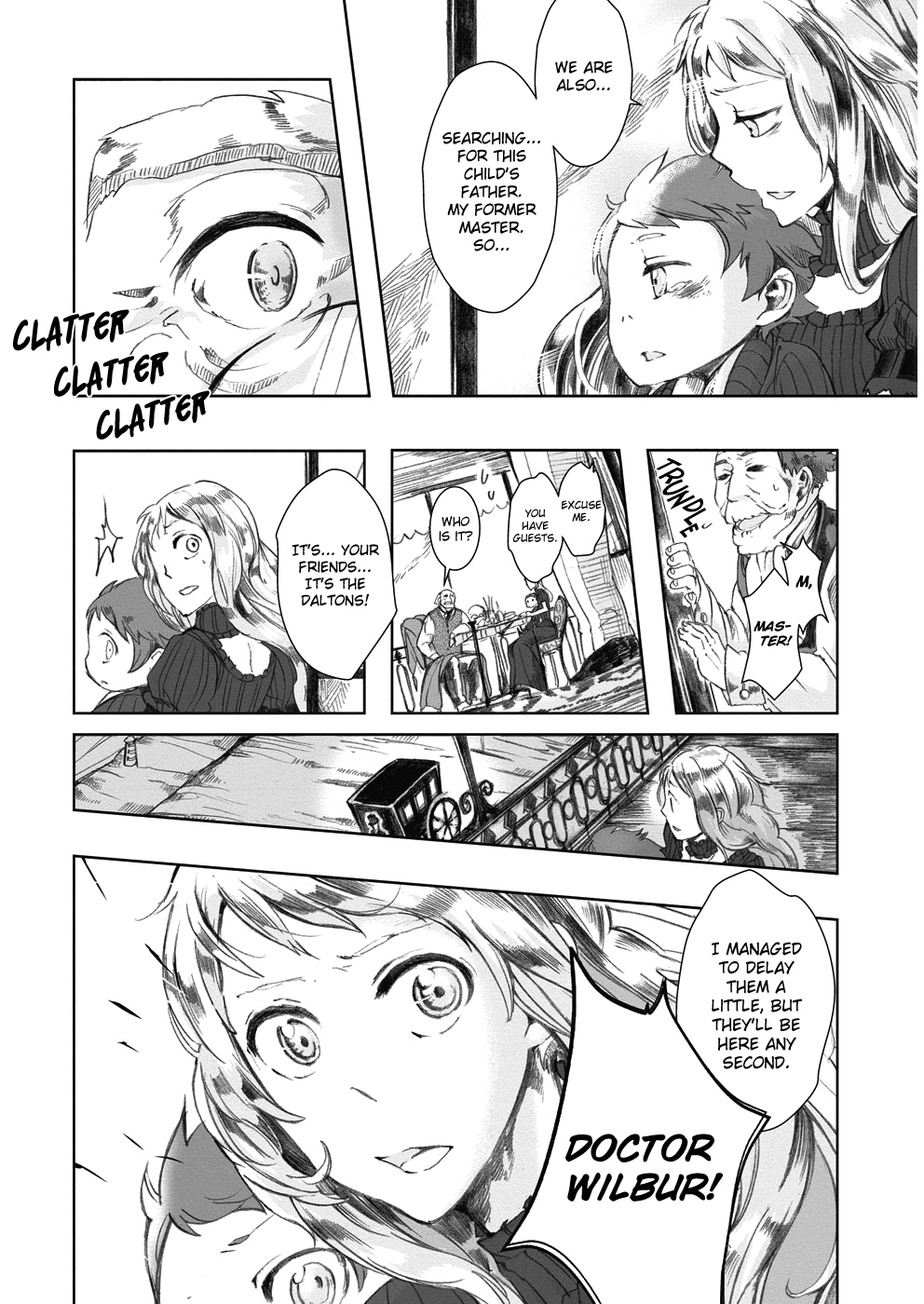bubble: (504, 949, 771, 1304), (676, 869, 835, 1131), (422, 61, 557, 313), (275, 468, 398, 680), (535, 0, 642, 168), (741, 568, 803, 700), (507, 472, 563, 583), (429, 486, 480, 586), (780, 537, 828, 634), (559, 461, 605, 556)
